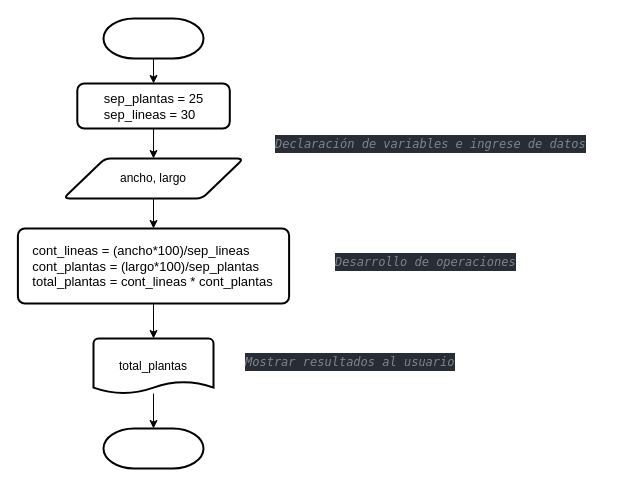
The diagram is 631 pixels wide and 486 high, and some of its shapes have lost their labels. The shapes that lost their labels are listed below. From the top down, each one's box as (x1, y1, x2, y2) in pixels, then its label:
(102, 17, 204, 59): Inicio
(102, 427, 204, 469): Fin
